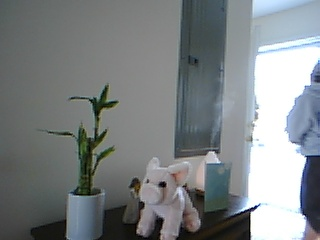piggy: (134, 155, 202, 240)
